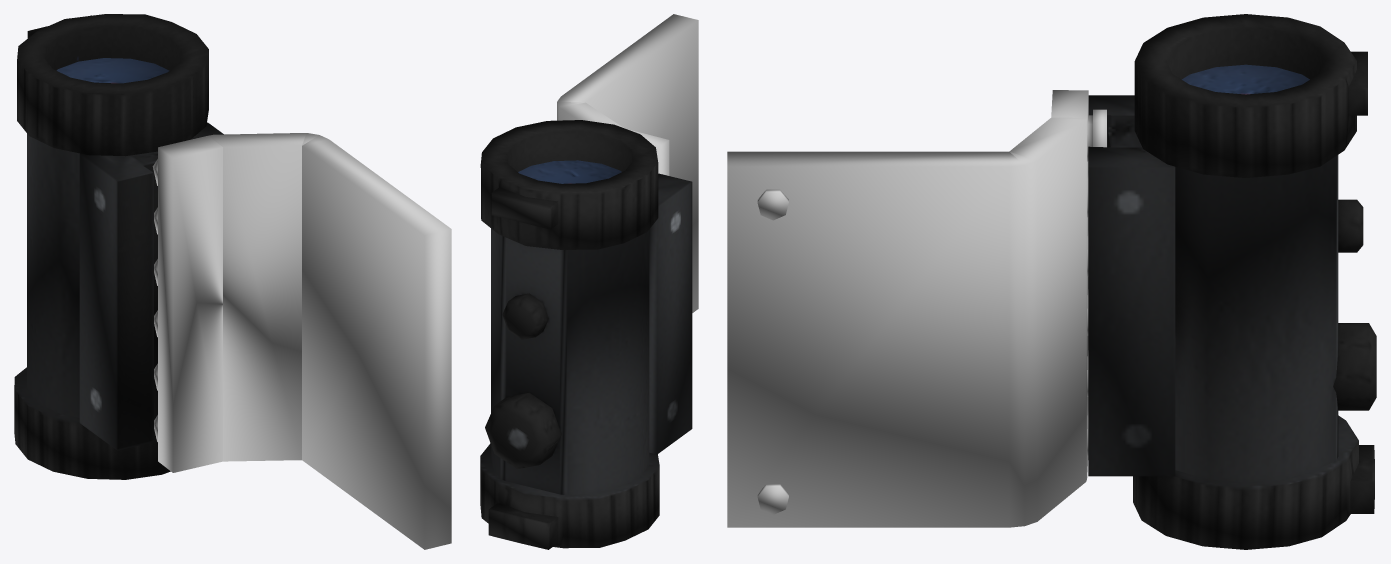
Rendered from TLOG_MountRedDot.fbx.
3 renders of one model, left to right at view 1: azimuth 30°, elevation 25°; view 2: azimuth 150°, elevation 25°; view 3: azimuth 270°, elevation 25°, orthographic. The views are drawn at different scales.
Visible parts, largest first — view 1: Cube; view 2: Cube; view 3: Cube.
Boxes of the visible parts, x1=… form: Cube: x1=14, y1=14, x2=451, y2=549; Cube: x1=480, y1=14, x2=698, y2=549; Cube: x1=727, y1=14, x2=1376, y2=549.
Size of the model in its own units: 0.0262 by 0.0471 by 0.0626.
